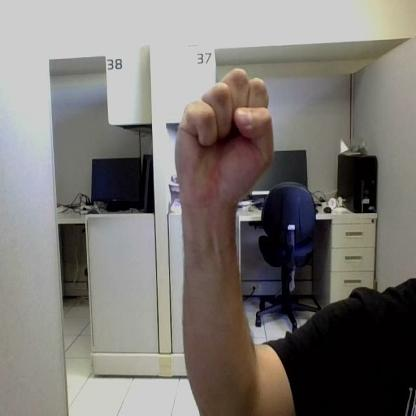S: (174, 68, 274, 204)
